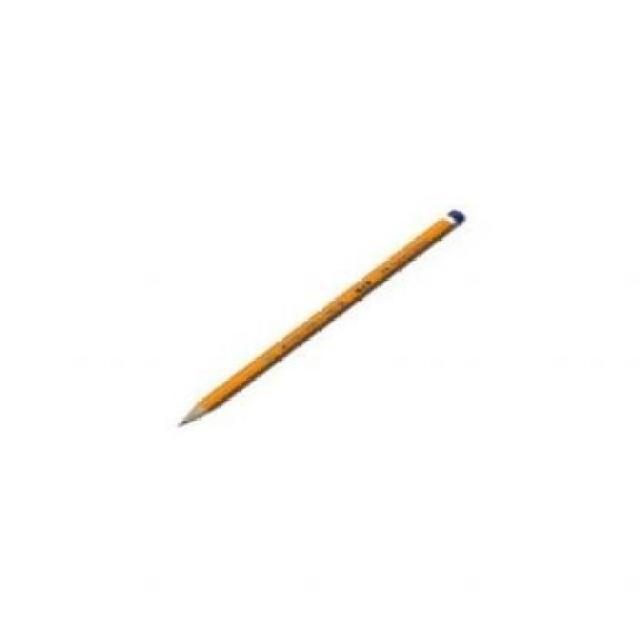pencil: (165, 389, 229, 433)
